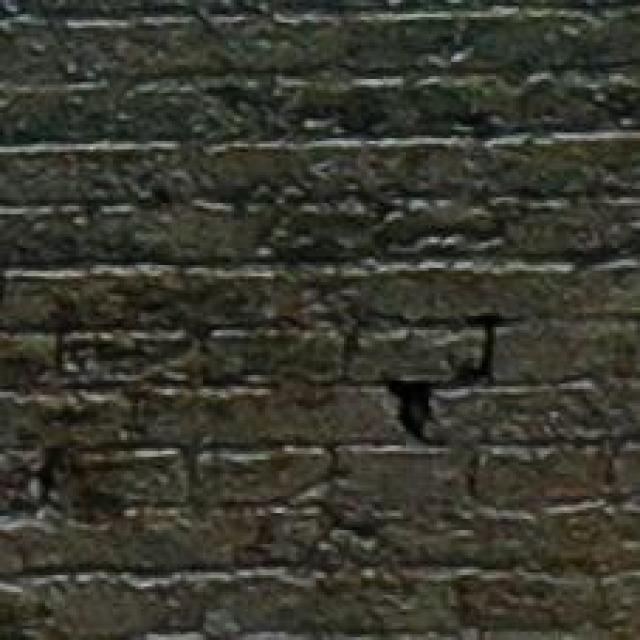Crack: (0, 205, 555, 572)
